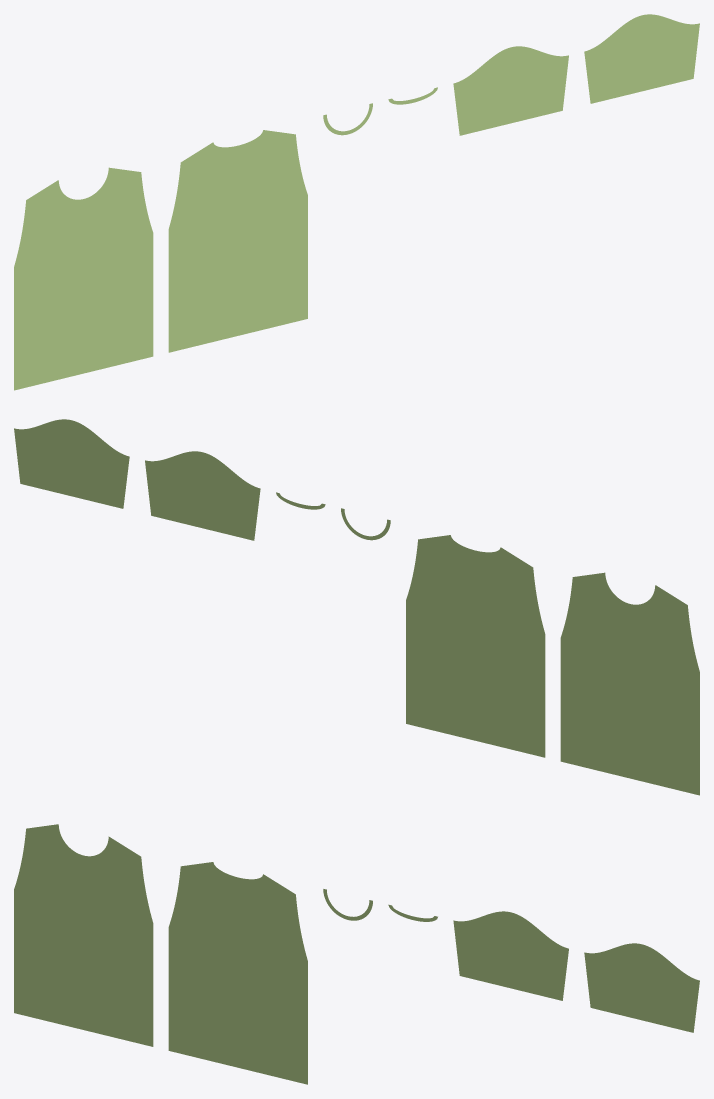
Rendered from camiseta-deportiva-malla-regular-talla-XS.glb.
3 renders of one model, top to bottom at view 1: azimuth 30°, elevation 25°; view 2: azimuth 150°, elevation 25°; view 3: azimuth 330°, elevation 25°, orthographic.
Parts seen in each view (by area): view 1: patron-espalda, patron-delantero, patron-manga-izq, patron-manga-der; view 2: patron-espalda, patron-delantero, patron-manga-izq, patron-manga-der; view 3: patron-espalda, patron-delantero, patron-manga-izq, patron-manga-der.
Part boxes in pixels (left/top/right/bottom): patron-espalda: left=168, top=130, right=307, bottom=352; patron-delantero: left=14, top=167, right=153, bottom=390; patron-manga-izq: left=453, top=46, right=568, bottom=135; patron-manga-der: left=584, top=14, right=699, bottom=103; patron-espalda: left=406, top=535, right=545, bottom=757; patron-delantero: left=560, top=572, right=699, bottom=795; patron-manga-izq: left=145, top=451, right=260, bottom=540; patron-manga-der: left=14, top=419, right=129, bottom=508; patron-espalda: left=168, top=862, right=307, bottom=1084; patron-delantero: left=14, top=824, right=153, bottom=1046; patron-manga-izq: left=453, top=911, right=568, bottom=1000; patron-manga-der: left=584, top=943, right=699, bottom=1032.
Bounding box in the file's own units: 2.26 × 0.7 × 0.
